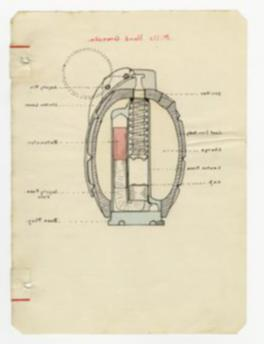Grenade: (83, 67, 186, 230)
